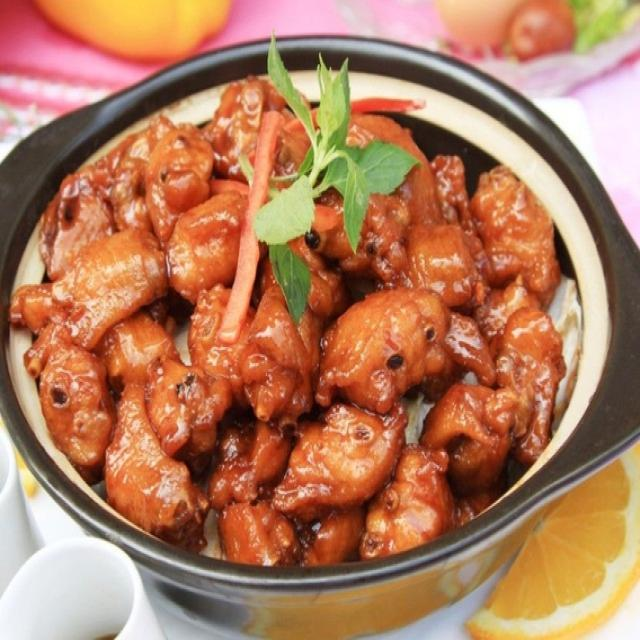鸡肉料理 含炸鸡: (19, 49, 595, 576)
